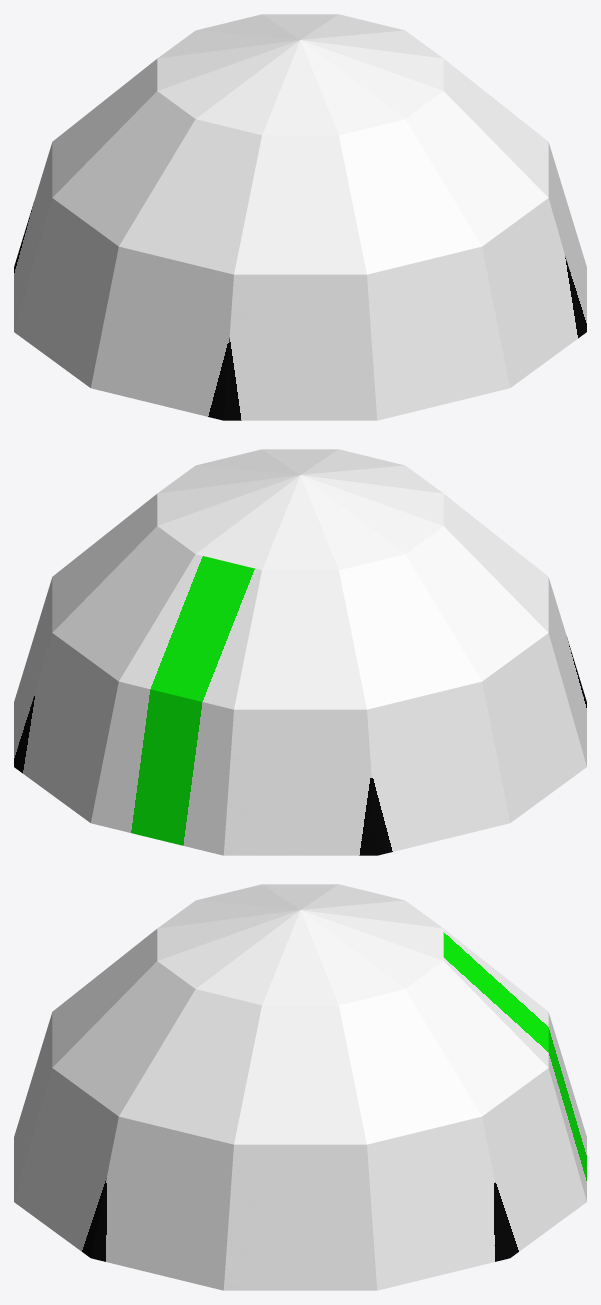
3 renders of one model, top to bottom at view 1: azimuth 30°, elevation 25°; view 2: azimuth 150°, elevation 25°; view 3: azimuth 270°, elevation 25°, orthographic.
Parts seen in each view (by area): view 1: sphere; view 2: sphere; view 3: sphere.
Boxes of the visible parts, left/top/right/bottom form: sphere: left=14, top=14, right=586, bottom=420; sphere: left=14, top=449, right=586, bottom=855; sphere: left=14, top=884, right=586, bottom=1290.
Bounding box in the file's own units: 1.19 × 0.5938 × 1.19.
1 material, 1 textured.
